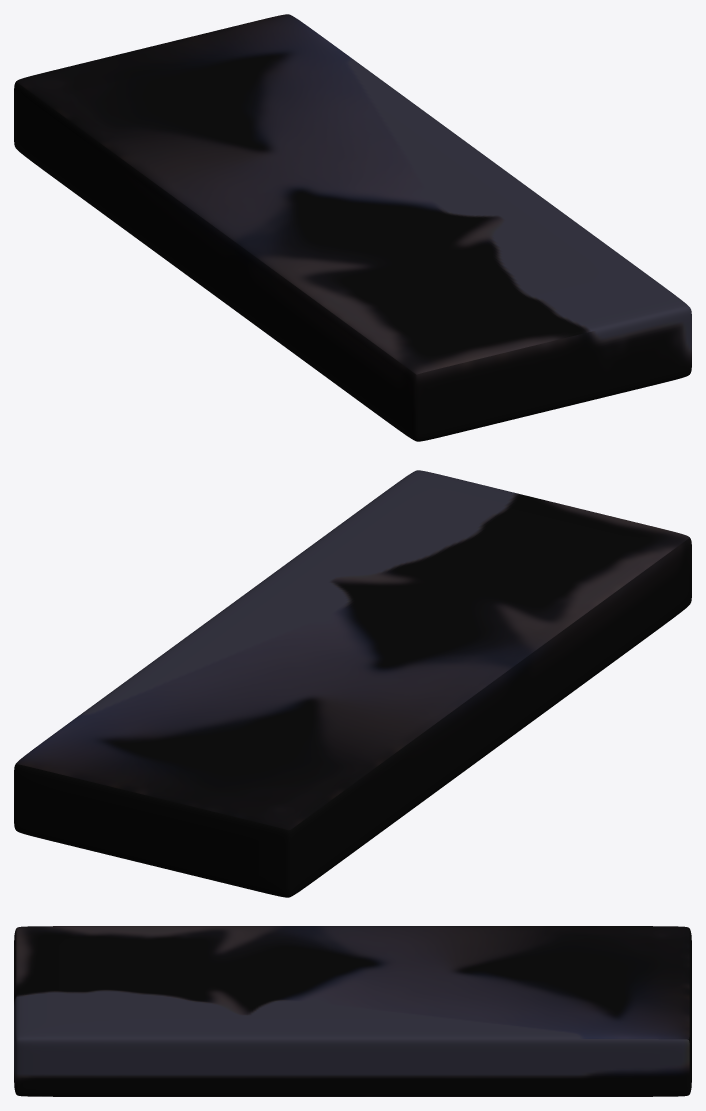
3 views of the same model, one above another, from view 1: azimuth 30°, elevation 25°; view 2: azimuth 150°, elevation 25°; view 3: azimuth 270°, elevation 25° (orthographic). The views are drawn at different scales.
Parts seen in each view (by area): view 1: Cube.022; view 2: Cube.022; view 3: Cube.022.
Boxes of the visible parts, x1,y1,x2,y2 form: Cube.022: (14, 14, 691, 441); Cube.022: (14, 470, 691, 897); Cube.022: (14, 926, 691, 1096).
Bounding box in the file's own units: 0.8 × 0.2 × 2.
Materials: 1 (1 with a texture image).
